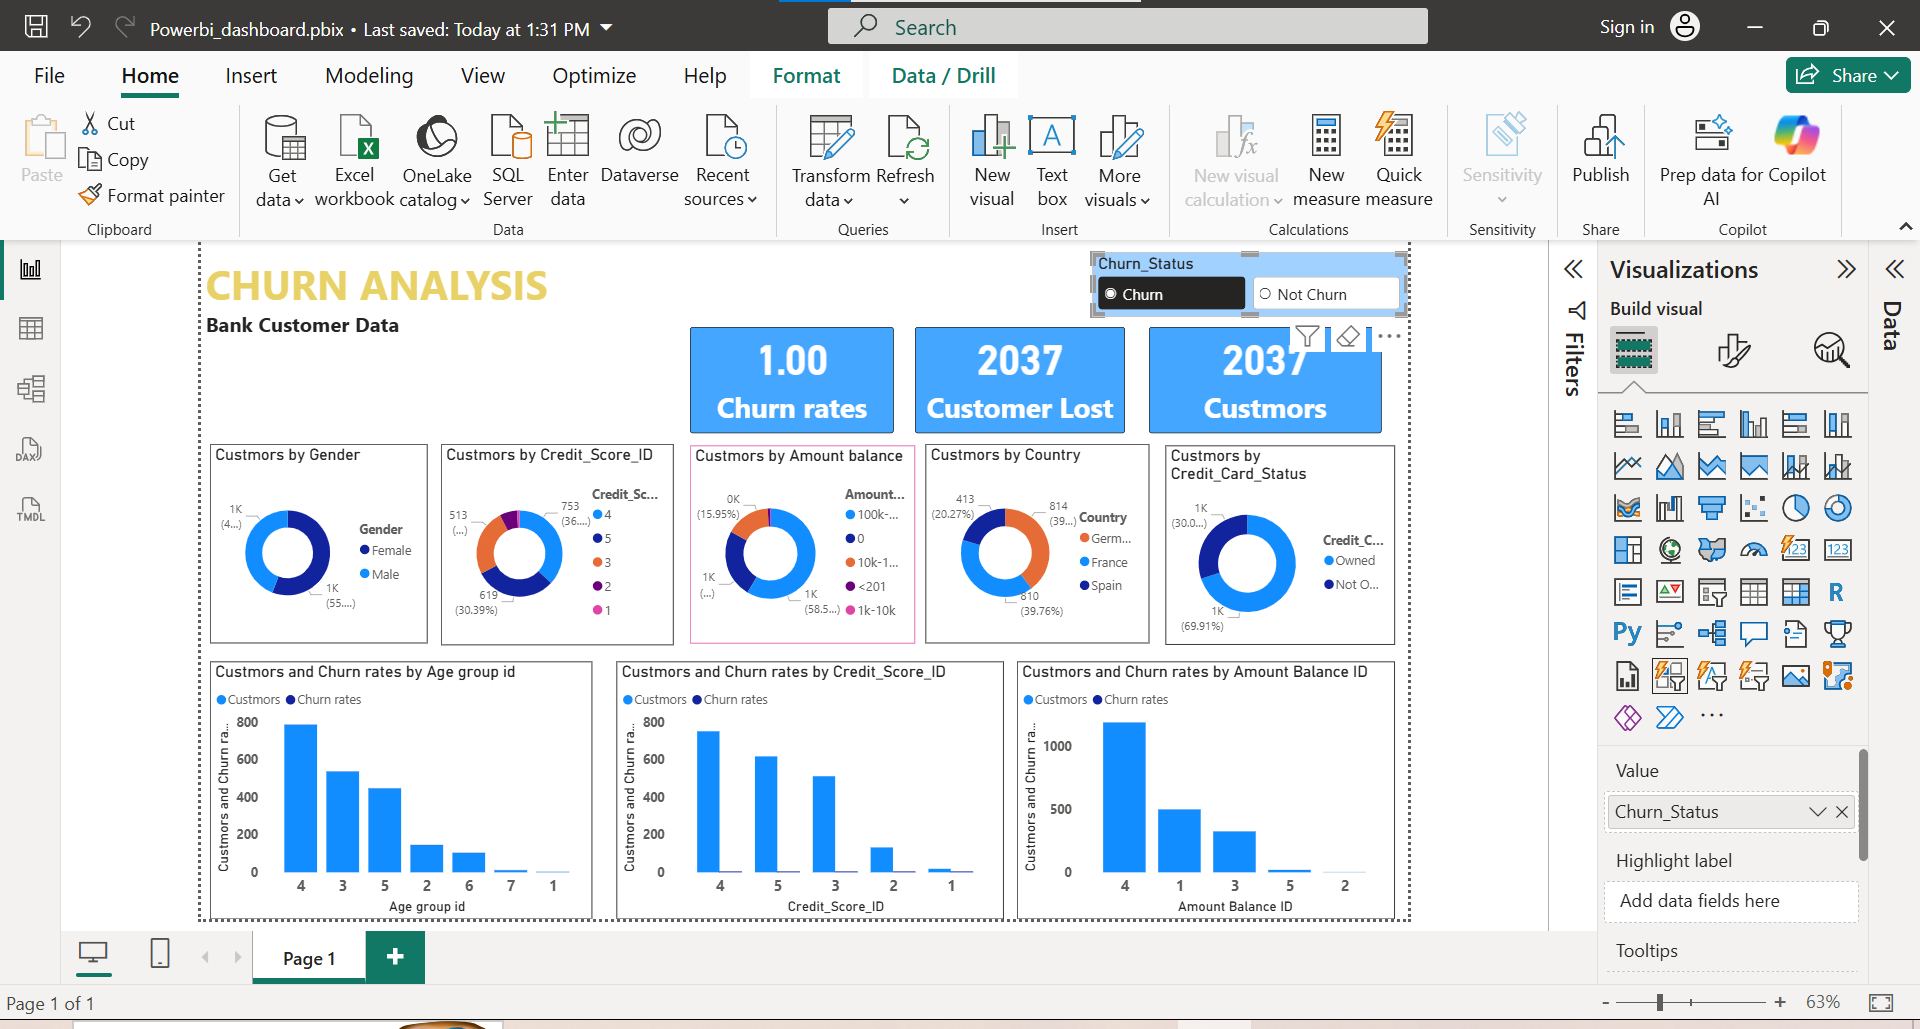

The dashboard page shown, as its layout file describes it:
{"tool":"powerbi","page":{"name":"Page 1","canvas":[1280,720],"ordinal":0},"visuals":[{"type":"textbox","box":[0,12.7,540.8,103.4],"z":0},{"type":"card","fields":{"Values":["Bank Customer Churn Prediction.Custmors"]},"box":[1005.3,92.3,246.5,112.9],"z":1000},{"type":"card","fields":{"Values":["Bank Customer Churn Prediction.Customer Lost"]},"box":[757.1,92.3,222.7,112.9],"z":2000},{"type":"card","fields":{"Values":["Bank Customer Churn Prediction.Churn rates"]},"box":[518.5,92.3,216.3,112.9],"z":3000},{"type":"donutChart","fields":{"Y":["Bank Customer Churn Prediction.Custmors"],"Category":["Bank Customer Churn Prediction.Gender"]},"box":[9.5,216.3,230.6,211.6],"z":4000},{"type":"donutChart","fields":{"Y":["Bank Customer Churn Prediction.Custmors"],"Category":["Credit Score table.Credit_Score_ID"]},"box":[254.5,216.3,246.5,213.1],"z":5000},{"type":"donutChart","fields":{"Y":["Bank Customer Churn Prediction.Custmors"],"Category":["Bank Customer Churn Prediction.Country"]},"box":[768.3,216.3,237,211.6],"z":6000},{"type":"donutChart","fields":{"Y":["Bank Customer Churn Prediction.Custmors"],"Category":["Bank Customer Churn Prediction.Credit_Card_Status"]},"box":[1022.8,217.9,243.4,211.6],"z":7000},{"type":"donutChart","fields":{"Category":["Bank Customer Churn Prediction.Amount balance"],"Y":["Bank Customer Churn Prediction.Custmors"]},"box":[518.5,217.9,238.6,210],"z":8000},{"type":"advancedSlicerVisual","fields":{"Values":["Bank Customer Churn Prediction.Churn_Status"]},"box":[944.8,12.7,335.6,68.4],"z":9000},{"type":"columnChart","fields":{"Category":["Age Grouping Table.Custom"],"Y":["Bank Customer Churn Prediction.Custmors","Bank Customer Churn Prediction.Churn rates"]},"box":[9.5,447,405.6,273.6],"z":10000},{"type":"clusteredColumnChart","fields":{"Y":["Bank Customer Churn Prediction.Custmors","Bank Customer Churn Prediction.Churn rates"],"Category":["Credit Score table.Credit_Score_ID"]},"box":[440.6,447,410.4,273.6],"z":11000},{"type":"columnChart","fields":{"Y":["Bank Customer Churn Prediction.Custmors","Bank Customer Churn Prediction.Churn rates"],"Category":["Amount Balance Table.Amount Balance ID"]},"box":[865.3,447,400.8,273.6],"z":12000}]}

Visuals, with their boxes on the page's 1280x720 design canvas (x1, y1, x2, y2). These are canvas units, not pixel positions in the 1920x1029 screenshot, which may show the page scaled, cropped or inside an application window:
textbox: x1=0 y1=13 x2=541 y2=116
card - Bank Customer Churn Prediction.Custmors: x1=1005 y1=92 x2=1252 y2=205
card - Bank Customer Churn Prediction.Customer Lost: x1=757 y1=92 x2=980 y2=205
card - Bank Customer Churn Prediction.Churn rates: x1=518 y1=92 x2=735 y2=205
donutChart - Bank Customer Churn Prediction.Custmors x Bank Customer Churn Prediction.Gender: x1=10 y1=216 x2=240 y2=428
donutChart - Bank Customer Churn Prediction.Custmors x Credit Score table.Credit_Score_ID: x1=254 y1=216 x2=501 y2=429
donutChart - Bank Customer Churn Prediction.Custmors x Bank Customer Churn Prediction.Country: x1=768 y1=216 x2=1005 y2=428
donutChart - Bank Customer Churn Prediction.Custmors x Bank Customer Churn Prediction.Credit_Card_Status: x1=1023 y1=218 x2=1266 y2=430
donutChart - Bank Customer Churn Prediction.Amount balance x Bank Customer Churn Prediction.Custmors: x1=518 y1=218 x2=757 y2=428
advancedSlicerVisual - Bank Customer Churn Prediction.Churn_Status: x1=945 y1=13 x2=1280 y2=81
columnChart - Age Grouping Table.Custom x Bank Customer Churn Prediction.Custmors: x1=10 y1=447 x2=415 y2=721
clusteredColumnChart - Bank Customer Churn Prediction.Custmors x Bank Customer Churn Prediction.Churn rates: x1=441 y1=447 x2=851 y2=721
columnChart - Bank Customer Churn Prediction.Custmors x Bank Customer Churn Prediction.Churn rates: x1=865 y1=447 x2=1266 y2=721
